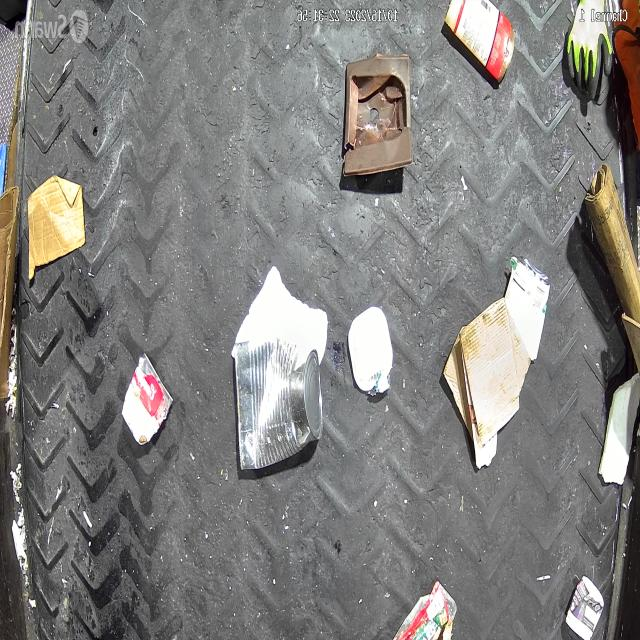can: (235, 339, 323, 471), (504, 252, 550, 360), (121, 353, 173, 446)
